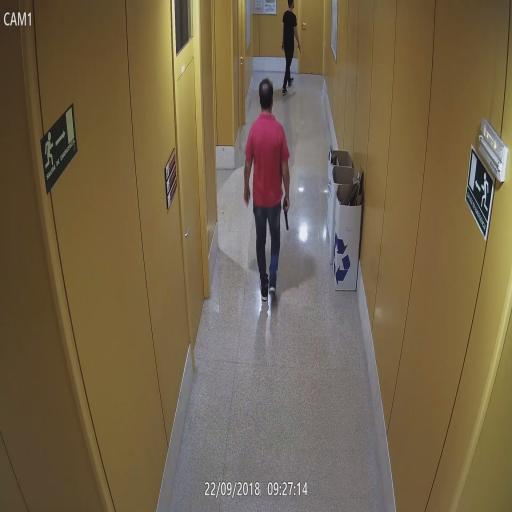Handgun: (281, 196, 291, 231), (296, 38, 302, 52)
